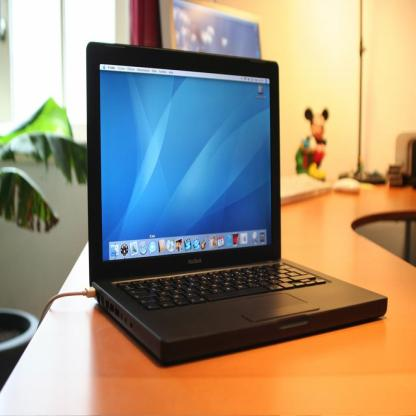board: (72, 45, 357, 369)
